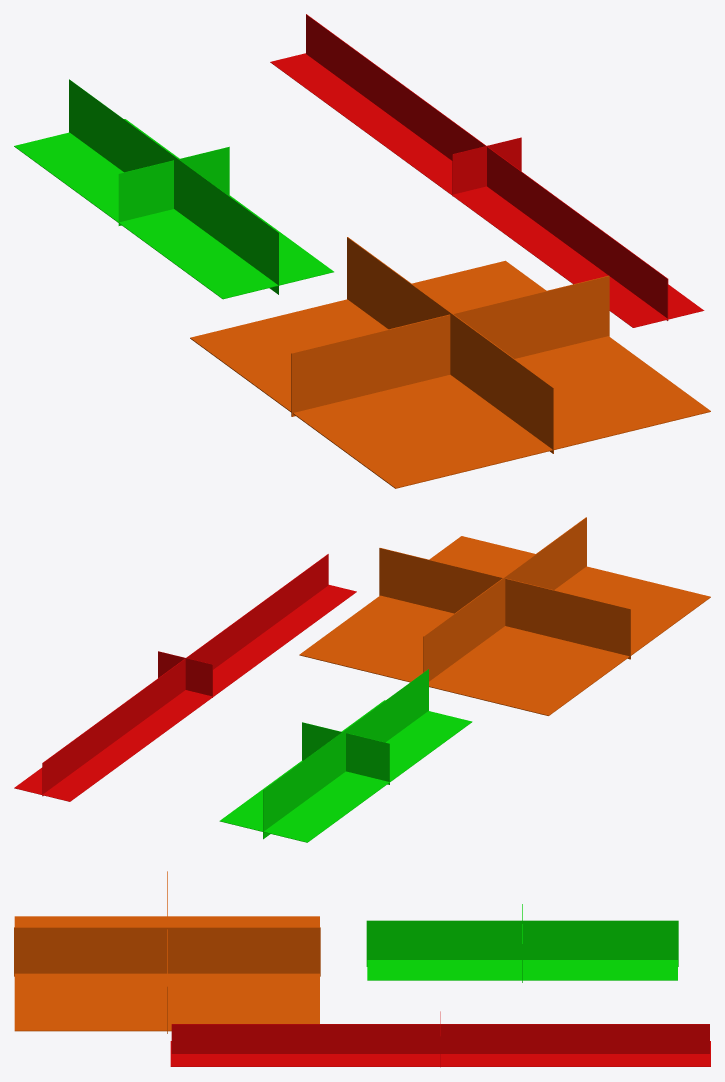
File: standing desk references.glb
The picture shows the model from 3 angles, top to bottom: view 1: azimuth 30°, elevation 25°; view 2: azimuth 150°, elevation 25°; view 3: azimuth 270°, elevation 25°; orthographic projection. The views are drawn at different scales.
Parts seen in each view (by area): view 1: Cube.002, Cube.003, Cube.004; view 2: Cube.002, Cube.003, Cube.004; view 3: Cube.002, Cube.003, Cube.004.
Part boxes in pixels (x1,y1,x2,y2): Cube.002: (190, 237, 710, 488); Cube.003: (270, 14, 704, 327); Cube.004: (14, 79, 333, 299); Cube.002: (299, 517, 710, 715); Cube.003: (14, 554, 356, 801); Cube.004: (219, 669, 472, 842); Cube.002: (14, 871, 320, 1033); Cube.003: (170, 1011, 710, 1067); Cube.004: (366, 904, 678, 982).
Bounding box in the file's own units: 20.64 × 3.4 × 40.38.
